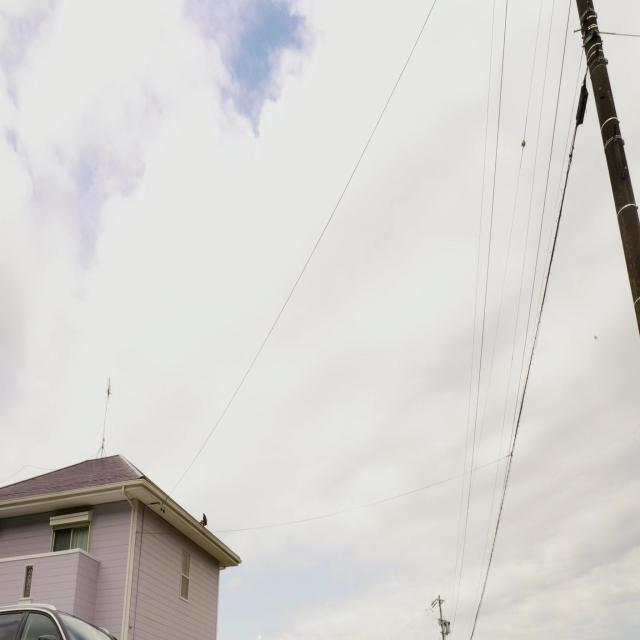Birds: (198, 508, 210, 529)
